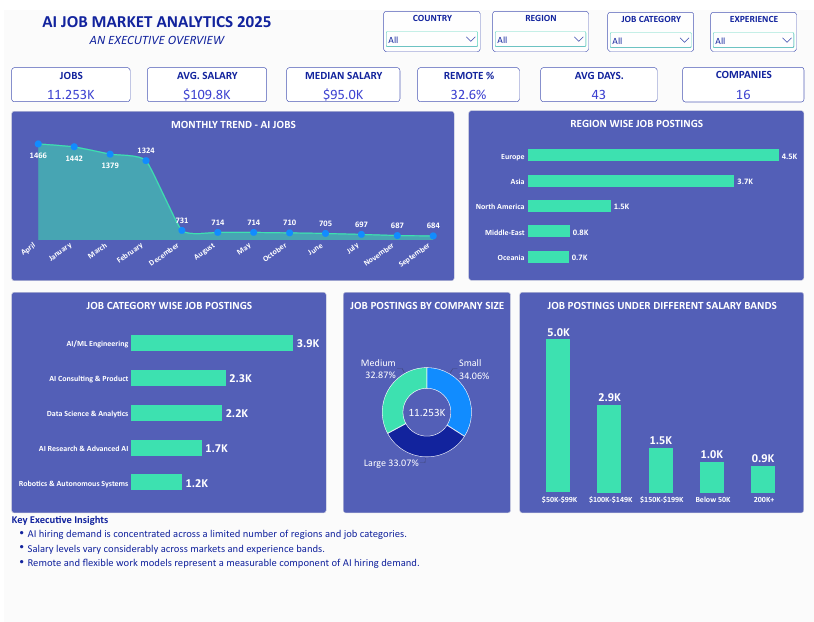

The page's visual inventory and layout, read from the dashboard file:
{"tool":"powerbi","page":{"name":"Executive Dashboard","canvas":[2100,1400],"ordinal":0},"visuals":[{"type":"areaChart","title":"MONTHLY TREND - AI JOBS ","fields":{"Category":["AI Job Market data.posting_month_name"],"Y":["DAX Formulaes.Total Job postings"]},"box":[18.2,250.1,1107.1,424.6],"z":0},{"type":"clusteredBarChart","title":"REGION WISE JOB POSTINGS","fields":{"Category":["AI Job Market data.Region"],"Y":["DAX Formulaes.Total Job postings"]},"box":[1161,249.2,838.8,425.5],"z":1000},{"type":"columnChart","title":"JOB POSTINGS UNDER DIFFERENT SALARY BANDS","fields":{"Category":["AI Job Market data.Salary_Band"],"Y":["DAX Formulaes.Total Job postings"]},"box":[1288.6,702,711.2,553.1],"z":2000},{"type":"clusteredBarChart","title":"JOB CATEGORY WISE JOB POSTINGS","fields":{"Category":["AI Job Market data.job_category"],"Y":["DAX Formulaes.Total Job postings"]},"box":[18.2,702,787.1,553.1],"z":3000},{"type":"cardVisual","title":"JOBS","fields":{"Data":["DAX Formulaes.Total Job postings"]},"box":[18.2,140.7,297,86],"z":4000},{"type":"cardVisual","title":"AVG. SALARY","fields":{"Data":["DAX Formulaes.Average salary"]},"box":[356.9,140.7,299.6,86],"z":5000},{"type":"cardVisual","title":"MEDIAN SALARY","fields":{"Data":["DAX Formulaes.Median Salary"]},"box":[705.9,140.7,283.9,86],"z":6000},{"type":"cardVisual","title":"AVG DAYS.","fields":{"Data":["DAX Formulaes.Average_hiring_duration"]},"box":[1341.6,140.7,291.8,86],"z":7000},{"type":"cardVisual","title":"COMPANIES","fields":{"Data":["DAX Formulaes.Total Hiring Companies"]},"box":[1695.8,139.8,303.9,88.1],"z":8000},{"type":"cardVisual","title":"REMOTE %","fields":{"Data":["DAX Formulaes.Remote job %"]},"box":[1034.2,140.7,255.3,86],"z":9000},{"type":"textbox","box":[18.2,0,726.8,101.6],"z":10000},{"type":"slicer","title":"COUNTRY","fields":{"Values":["AI Job Market data.company_location"]},"box":[948.2,0,242.3,101.6],"z":11000},{"type":"slicer","title":"REGION","fields":{"Values":["AI Job Market data.Region"]},"box":[1221.7,0,239.7,101.6],"z":12000},{"type":"slicer","title":"JOB CATEGORY","fields":{"Values":["AI Job Market data.job_category"]},"box":[1508.3,2.6,216.2,99],"z":13000},{"type":"slicer","title":"EXPERIENCE","fields":{"Values":["AI Job Market data.experience_band"]},"box":[1766.2,2.6,215.2,99],"z":14000},{"type":"donutChart","title":"JOB POSTINGS BY COMPANY SIZE","fields":{"Category":["AI Job Market data.company_size"],"Y":["DAX Formulaes.Total Job postings"]},"box":[847.9,702,419.4,553.1],"z":15000},{"type":"textbox","box":[18.2,1255.2,2024.1,145.9],"z":16000}]}

Visuals, with their boxes in screenshot pixels (x1, y1, x2, y2):
"MONTHLY TREND - AI JOBS " areaChart: (14, 110, 452, 278)
"REGION WISE JOB POSTINGS" clusteredBarChart: (466, 109, 799, 278)
"JOB POSTINGS UNDER DIFFERENT SALARY BANDS" columnChart: (517, 289, 799, 508)
"JOB CATEGORY WISE JOB POSTINGS" clusteredBarChart: (14, 289, 326, 508)
"JOBS" cardVisual: (14, 66, 131, 100)
"AVG. SALARY" cardVisual: (148, 66, 267, 100)
"MEDIAN SALARY" cardVisual: (286, 66, 399, 100)
"AVG DAYS." cardVisual: (538, 66, 654, 100)
"COMPANIES" cardVisual: (678, 66, 799, 101)
"REMOTE %" cardVisual: (416, 66, 517, 100)
textbox: (14, 11, 302, 51)
"COUNTRY" slicer: (382, 11, 478, 51)
"REGION" slicer: (491, 11, 586, 51)
"JOB CATEGORY" slicer: (604, 12, 690, 51)
"EXPERIENCE" slicer: (706, 12, 792, 51)
"JOB POSTINGS BY COMPANY SIZE" donutChart: (342, 289, 509, 508)
textbox: (14, 508, 813, 566)
